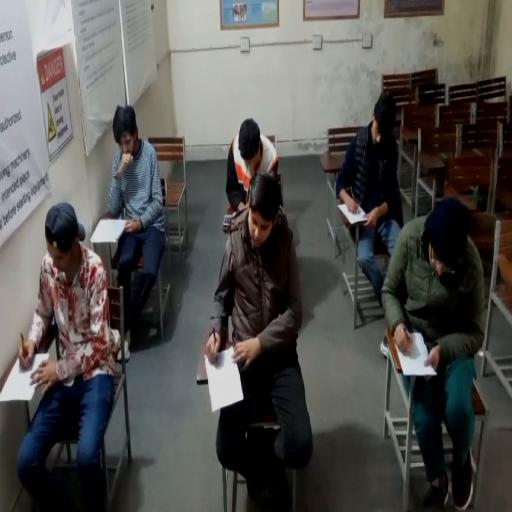paper: (0, 352, 50, 402), (208, 346, 242, 409), (397, 331, 437, 376), (90, 218, 128, 244), (337, 202, 369, 225), (222, 212, 236, 228)
